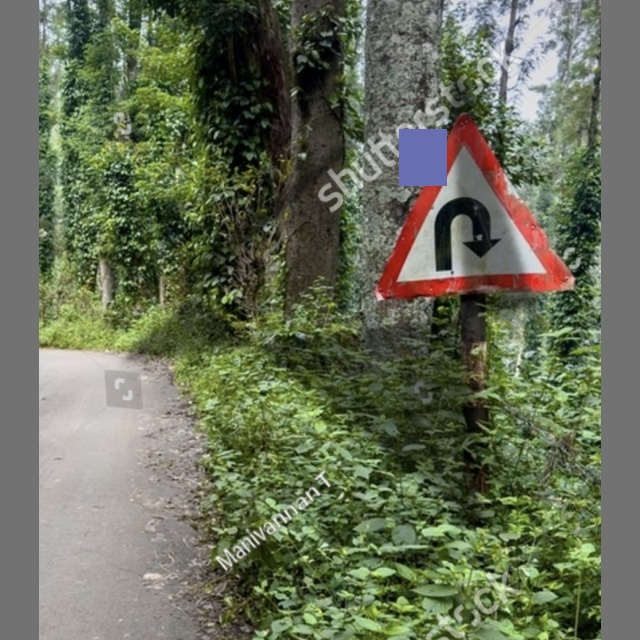Right_Hair_Pin_Bend: (381, 114, 572, 294)
